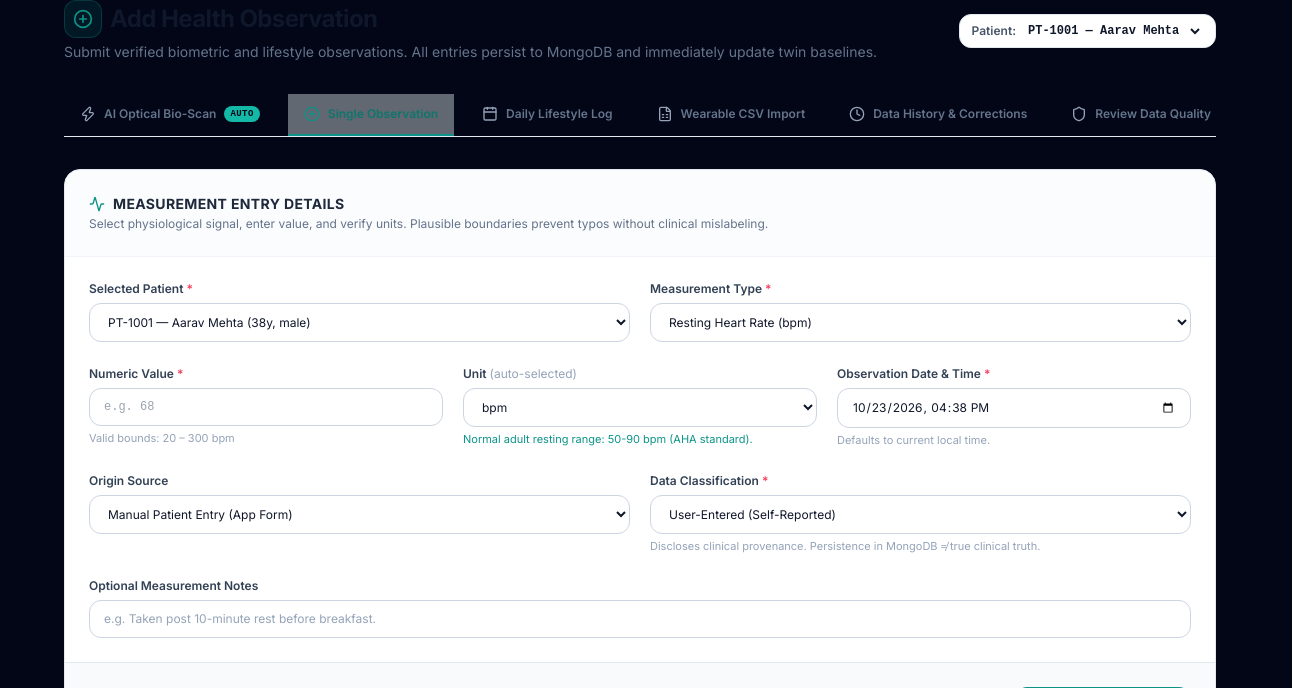
it: AddObservationPage Component › rejects values outside plausible bounds with a clear data-quality error message
Step 1. Type "999" into the number field with placeholder "e.g. 68" → (266, 407), box [89,388,443,426]
(page scrolled)
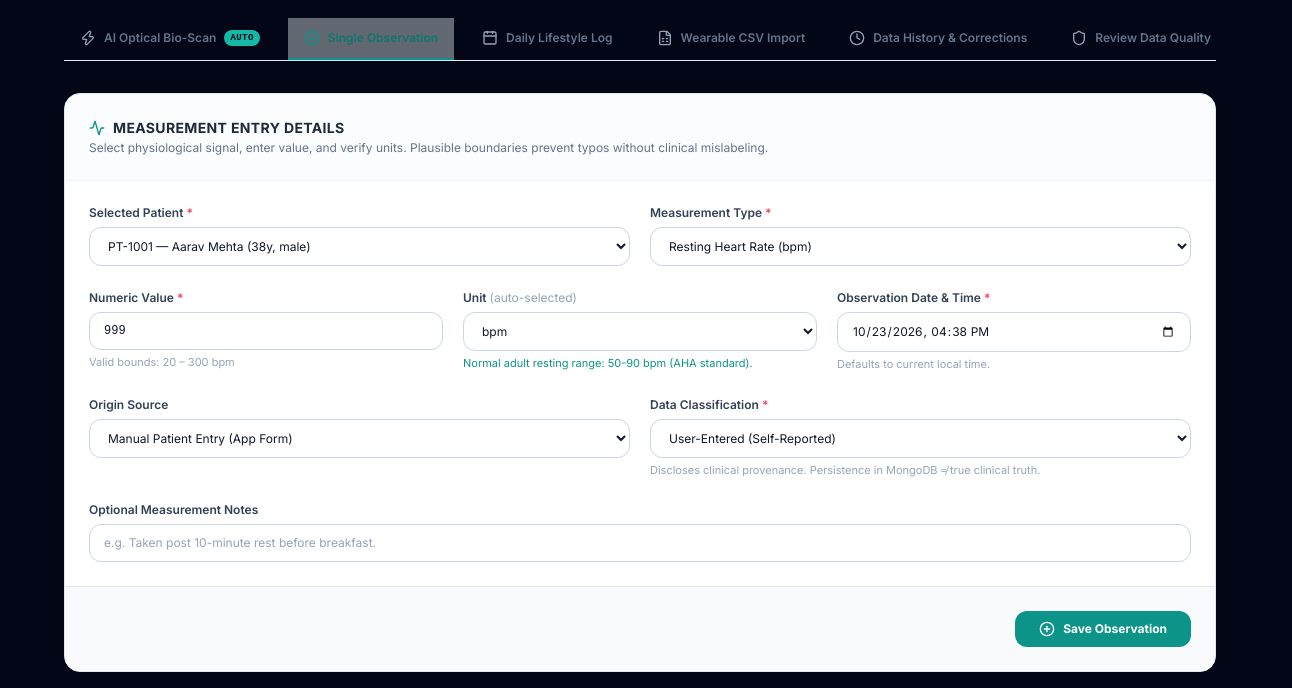
Step 2. Click the button "Save Observation" → (1103, 629), box [1015,611,1191,647]
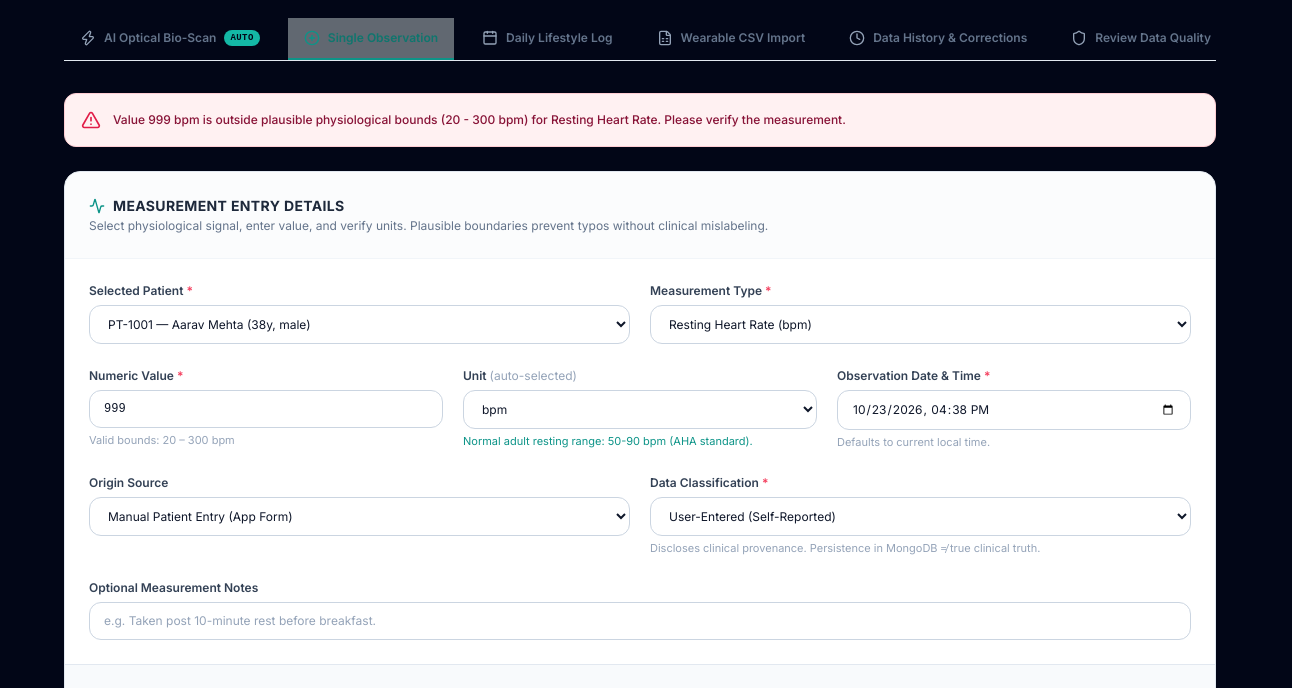
expect the text "outside plausible physiological bounds" is shown: met, box [113,112,846,127]
